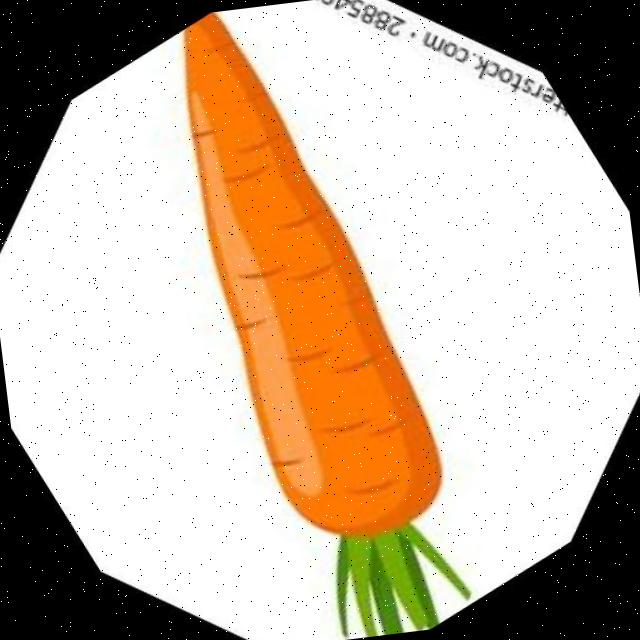carrot: (185, 15, 470, 637)
